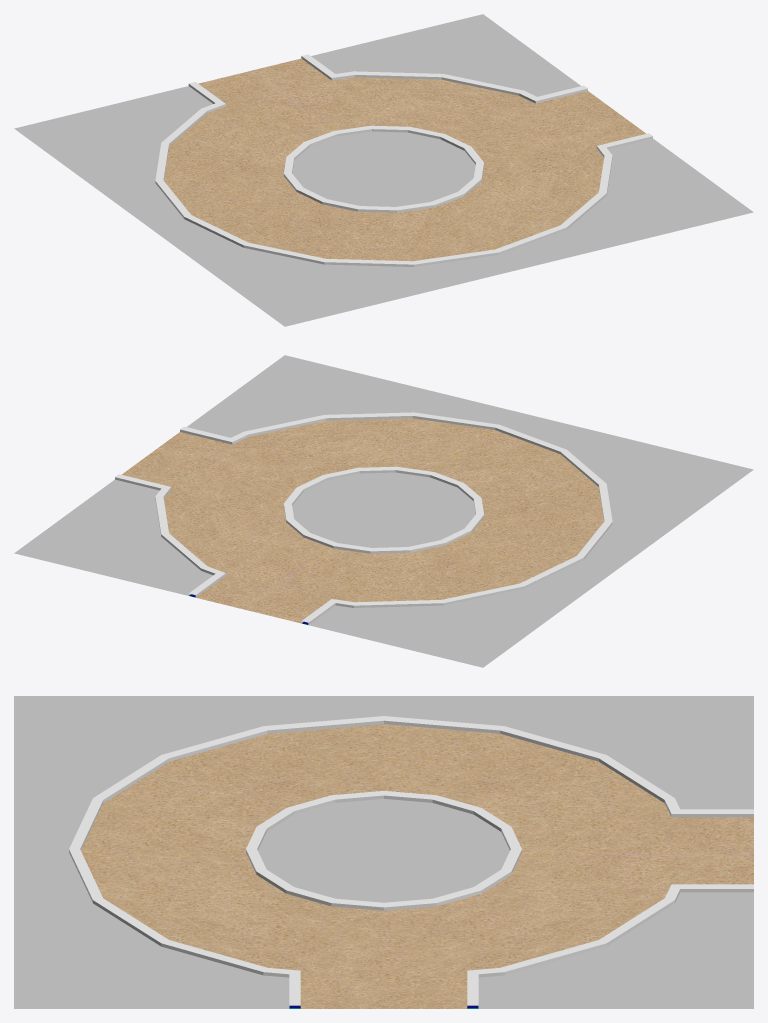
File: Park-Turn_02.fbx
3 views of the same model, one above another, from view 1: azimuth 30°, elevation 25°; view 2: azimuth 150°, elevation 25°; view 3: azimuth 270°, elevation 25° (orthographic). The views are drawn at different scales.
Parts seen in each view (by area): view 1: _T_Park_TurnBG_02; view 2: _T_Park_TurnBG_02; view 3: _T_Park_TurnBG_02.
Part boxes in pixels (x1,y1,x2,y2): _T_Park_TurnBG_02: [14, 14, 753, 326]; _T_Park_TurnBG_02: [14, 355, 753, 667]; _T_Park_TurnBG_02: [14, 696, 753, 1008].
Bounding box in the file's own units: 2000 × 10 × 2000.
